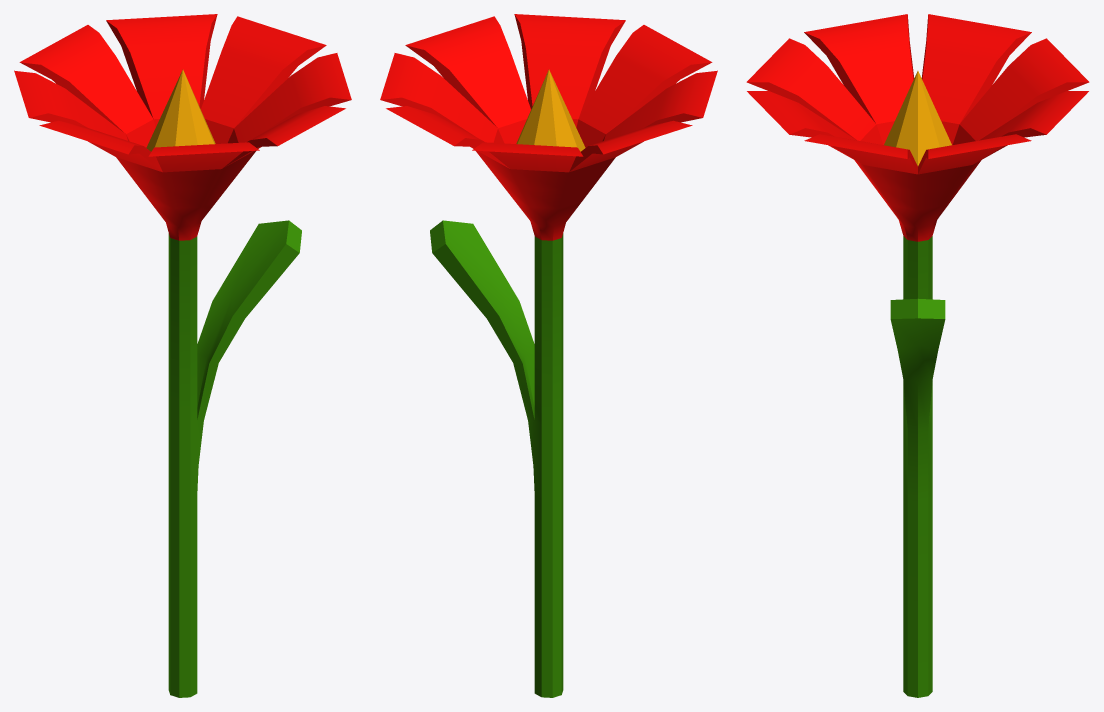
Rendered from flower1.fbx.
3 renders of one model, left to right at view 1: azimuth 30°, elevation 25°; view 2: azimuth 150°, elevation 25°; view 3: azimuth 270°, elevation 25°, orthographic.
Visible parts, largest first — view 1: Cone_2, Cone_1; view 2: Cone_2, Cone_1; view 3: Cone_2, Cone_1.
Part boxes in pixels (left/top/right/bottom): Cone_2: left=14, top=14, right=351, bottom=172; Cone_1: left=116, top=69, right=301, bottom=697; Cone_2: left=380, top=14, right=717, bottom=172; Cone_1: left=430, top=69, right=615, bottom=697; Cone_2: left=746, top=14, right=1089, bottom=174; Cone_1: left=854, top=71, right=981, bottom=697.
Size of the model in its own units: 51.18 by 102 by 51.18.
